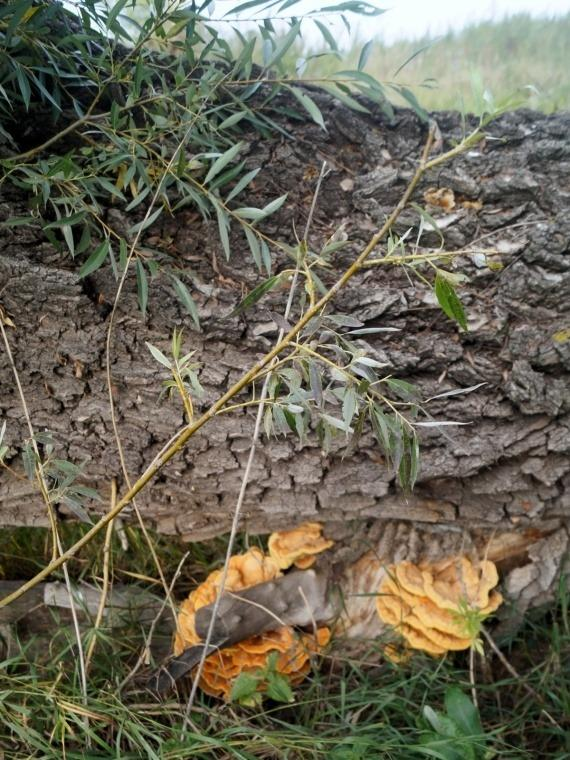Sulphur-yellow tinder fungus: (376, 557, 501, 654), (199, 626, 329, 699), (268, 522, 333, 569)
